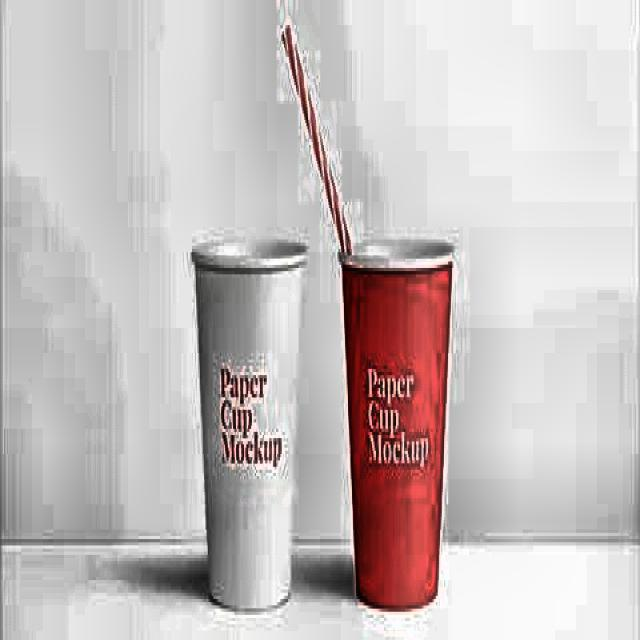Cup: (336, 233, 456, 607), (196, 228, 310, 616)
